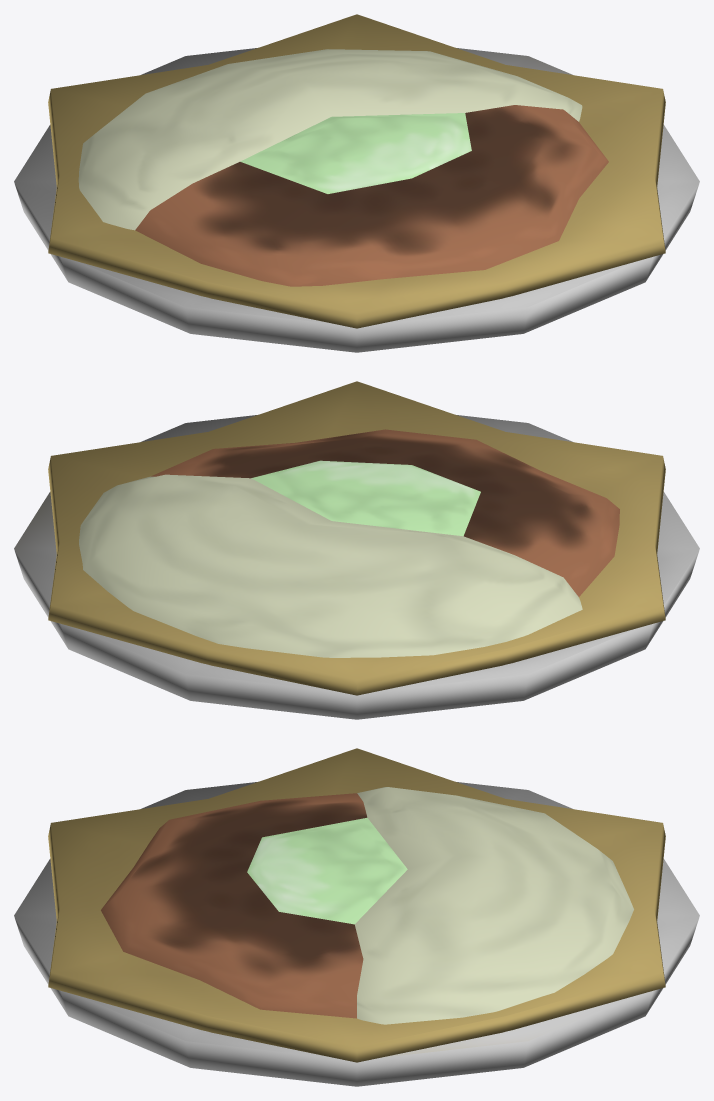
Rendered from Tek.fbx.
3 views of the same model, one above another, from view 1: azimuth 30°, elevation 25°; view 2: azimuth 150°, elevation 25°; view 3: azimuth 270°, elevation 25° (orthographic).
Visible parts, largest first — view 1: Food, Paper, Plate; view 2: Food, Paper, Plate; view 3: Food, Paper, Plate.
Part boxes in pixels (box(x1,y1,x2,y2)): Food: box(78, 49, 608, 286); Paper: box(48, 14, 665, 328); Plate: box(14, 48, 699, 352); Food: box(79, 429, 619, 657); Paper: box(48, 381, 665, 695); Plate: box(14, 415, 699, 719); Food: box(101, 787, 633, 1024); Paper: box(48, 748, 665, 1062); Plate: box(14, 782, 699, 1086).
Bounding box in the file's own units: 72.38 × 13.64 × 69.61.
